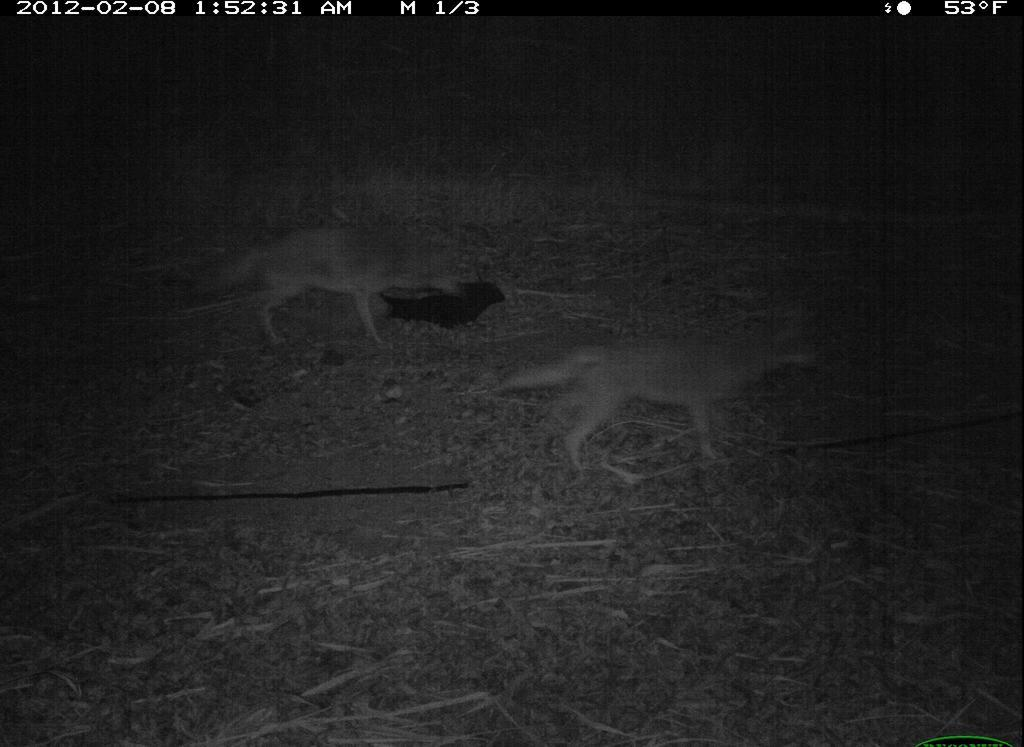coyote: (492, 314, 826, 481), (193, 214, 474, 359)
